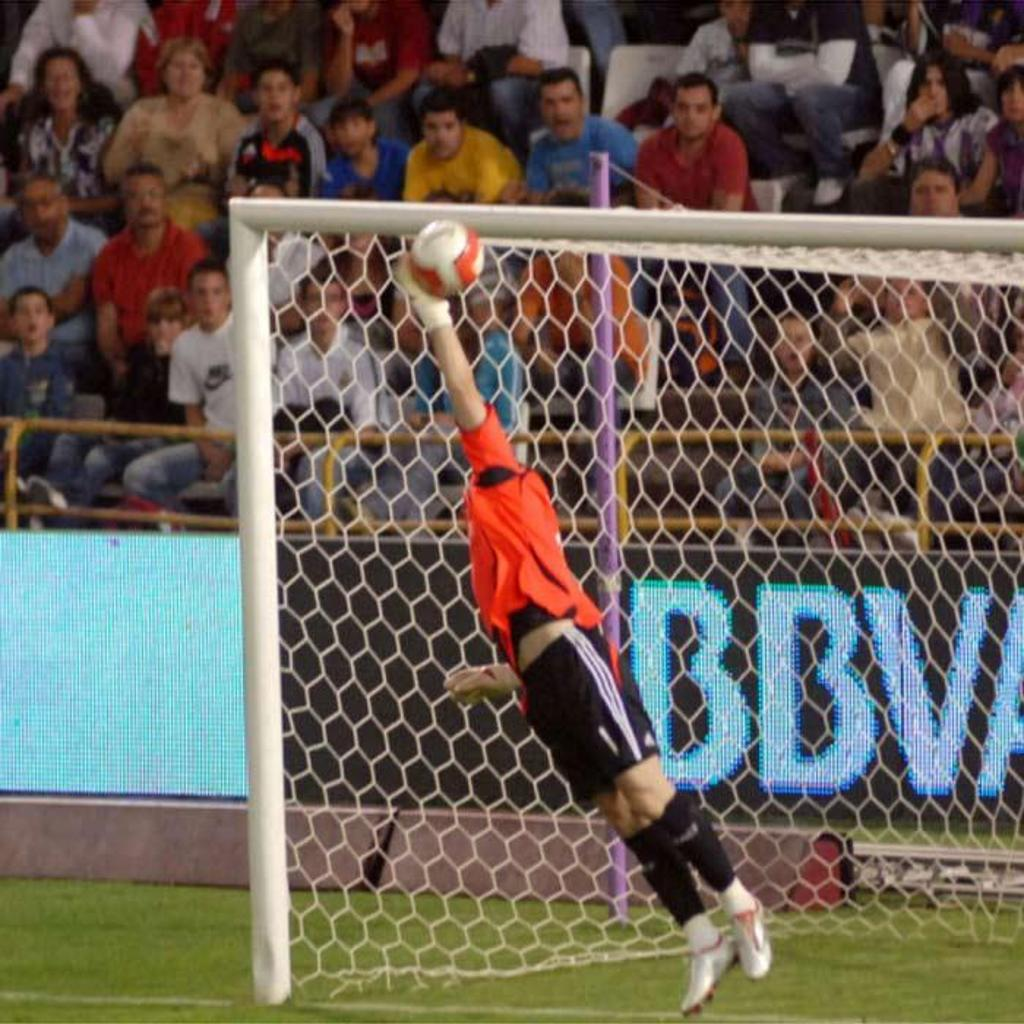face: (912, 173, 958, 229), (541, 82, 582, 141), (23, 182, 61, 242), (125, 176, 164, 229), (777, 320, 813, 373), (675, 88, 711, 139), (193, 273, 228, 325), (44, 61, 80, 111), (425, 112, 463, 159), (307, 282, 343, 331), (918, 65, 953, 113), (14, 296, 50, 342), (259, 71, 291, 122), (169, 51, 203, 99), (888, 276, 924, 321), (334, 117, 369, 156), (149, 308, 182, 348), (1002, 78, 1024, 122), (726, 1, 749, 22)
